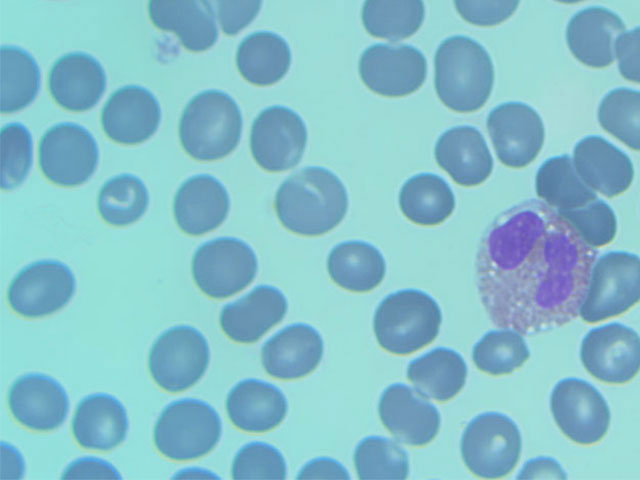RBC: (271, 166, 349, 237), (429, 40, 497, 106), (355, 39, 423, 105), (243, 97, 311, 163), (176, 89, 244, 155), (167, 170, 235, 236), (190, 236, 258, 302), (215, 276, 283, 342), (259, 321, 327, 387), (146, 323, 214, 389), (88, 170, 156, 236), (95, 84, 163, 150), (47, 46, 115, 112), (32, 121, 100, 187), (7, 253, 75, 319), (8, 368, 76, 434), (62, 387, 130, 453), (156, 398, 224, 464), (218, 373, 286, 439), (376, 382, 443, 441), (409, 346, 476, 405), (375, 290, 442, 349), (319, 237, 386, 296), (236, 29, 298, 88), (469, 318, 531, 377), (551, 379, 613, 438), (459, 414, 521, 473), (578, 324, 640, 383), (397, 170, 457, 228), (434, 132, 494, 190), (489, 104, 549, 162), (584, 258, 640, 320), (569, 132, 625, 194), (572, 9, 628, 71), (539, 153, 591, 213), (354, 430, 409, 480)
WBC: (472, 202, 595, 329)
